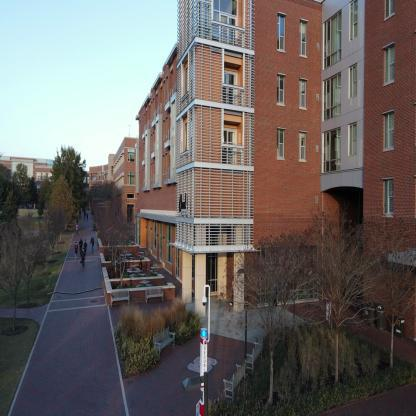Wolf Ridge: (136, 15, 415, 352)
